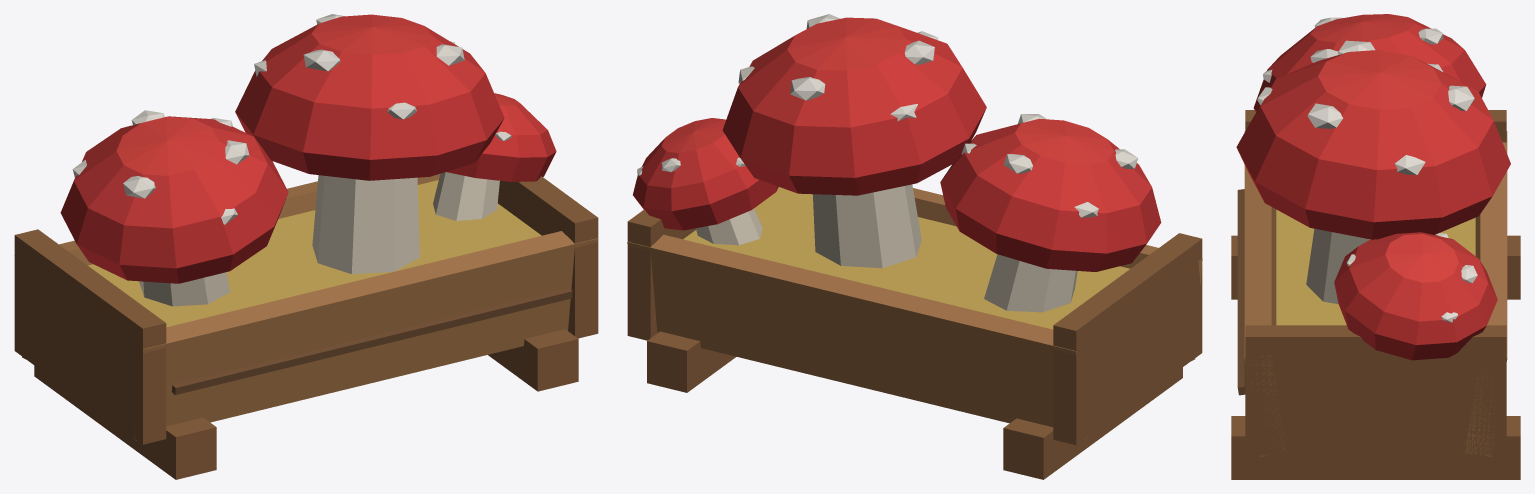
File: habitat_prop_moo_shroom.fbx
3 views of the same model, side by side, from view 1: azimuth 30°, elevation 25°; view 2: azimuth 150°, elevation 25°; view 3: azimuth 270°, elevation 25° (orthographic). The views are drawn at different scales.
Visible parts, largest first — view 1: habitat_prop_moo_shroom; view 2: habitat_prop_moo_shroom; view 3: habitat_prop_moo_shroom.
Part boxes in pixels (x1,y1,x2,y2): habitat_prop_moo_shroom: (14, 14, 598, 479); habitat_prop_moo_shroom: (627, 14, 1202, 479); habitat_prop_moo_shroom: (1231, 14, 1520, 479).
Size of the model in its own units: 1.68 by 1.09 by 0.84.
